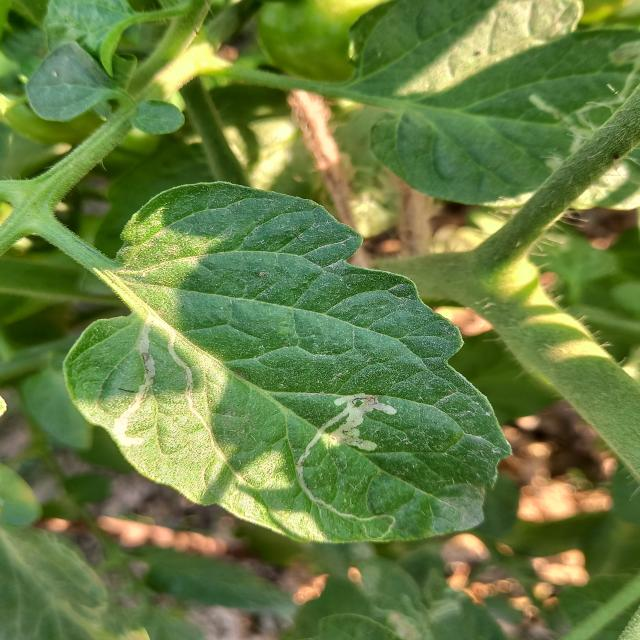Tuta absoluta: (288, 384, 400, 524), (109, 315, 210, 460)
